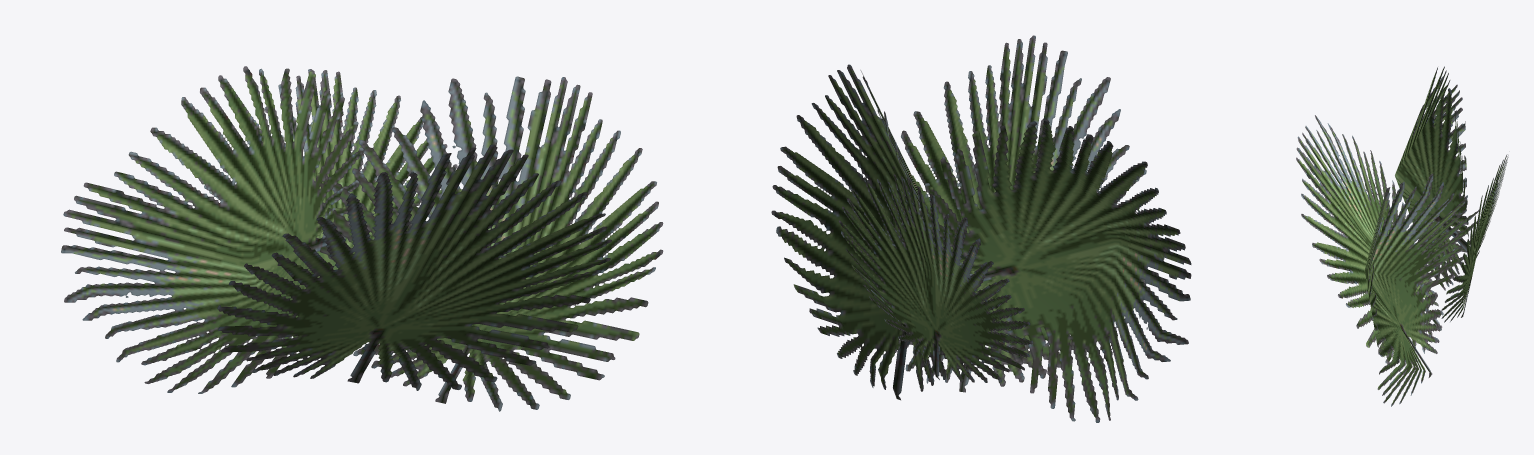
The model's file is plant_palm_fan.fbx.
The picture shows the model from 3 angles, left to right: view 1: azimuth 30°, elevation 25°; view 2: azimuth 150°, elevation 25°; view 3: azimuth 270°, elevation 25°; orthographic projection. The views are drawn at different scales.
Visible parts, largest first — view 1: plant_palm_fan; view 2: plant_palm_fan; view 3: plant_palm_fan.
Boxes of the visible parts, x1,y1,x2,y2 form: plant_palm_fan: (61,66,663,411); plant_palm_fan: (771,35,1191,422); plant_palm_fan: (1296,66,1508,406).
Bounding box in the file's own units: 254 × 170 × 135.
Materials: 1 (1 with a texture image).
